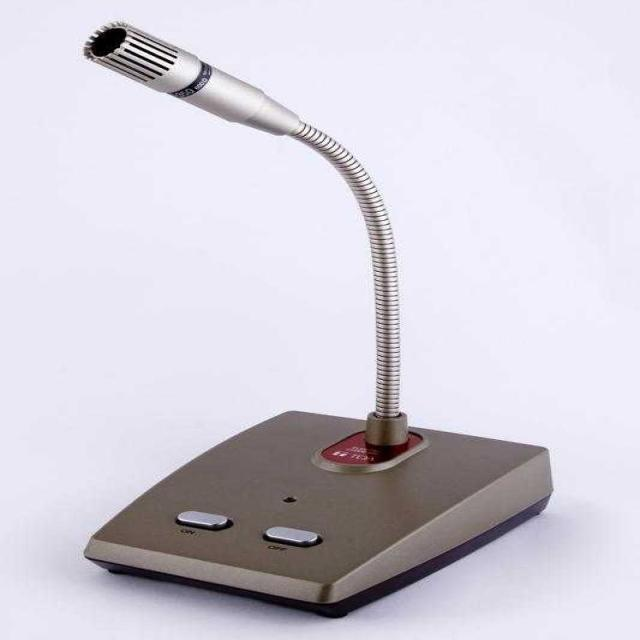microphone: (84, 21, 307, 141)
